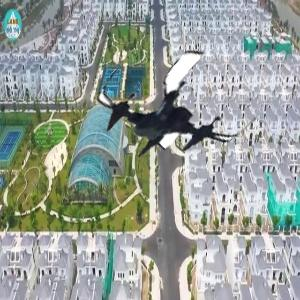drone: (102, 30, 253, 181)
